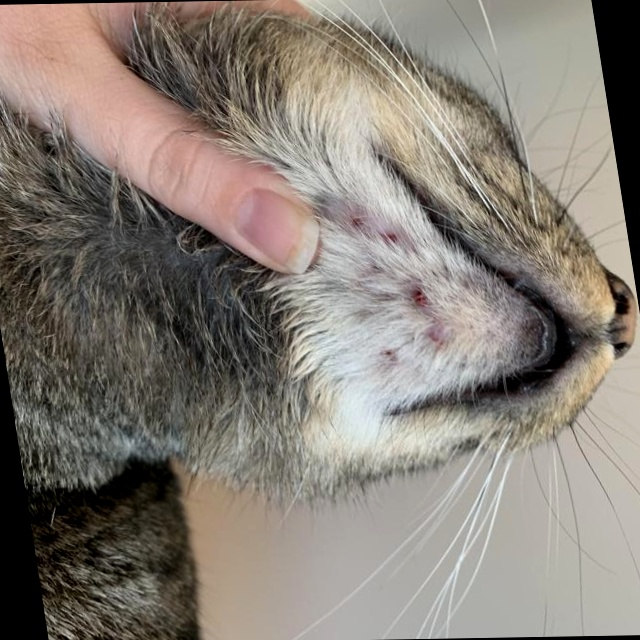acne: (322, 218, 456, 378)
